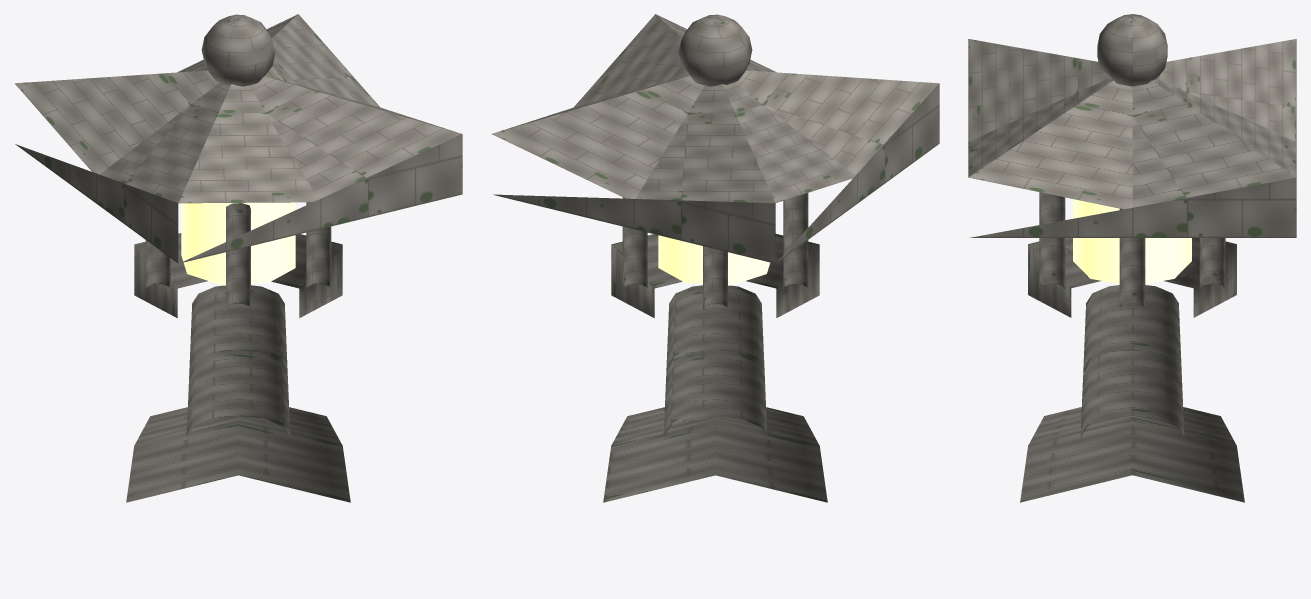
Rendered from asian_stone_lantern.glb.
3 renders of one model, left to right at view 1: azimuth 30°, elevation 25°; view 2: azimuth 150°, elevation 25°; view 3: azimuth 270°, elevation 25°, orthographic.
Parts seen in each view (by area): view 1: ModelRoot; view 2: ModelRoot; view 3: ModelRoot.
Part boxes in pixels (x1=…): ModelRoot: x1=15, y1=14, x2=462, y2=502; ModelRoot: x1=492, y1=14, x2=939, y2=502; ModelRoot: x1=968, y1=14, x2=1296, y2=502.
Bounding box in the file's own units: 1.77 × 3.05 × 1.77.
2 materials, 1 textured.
